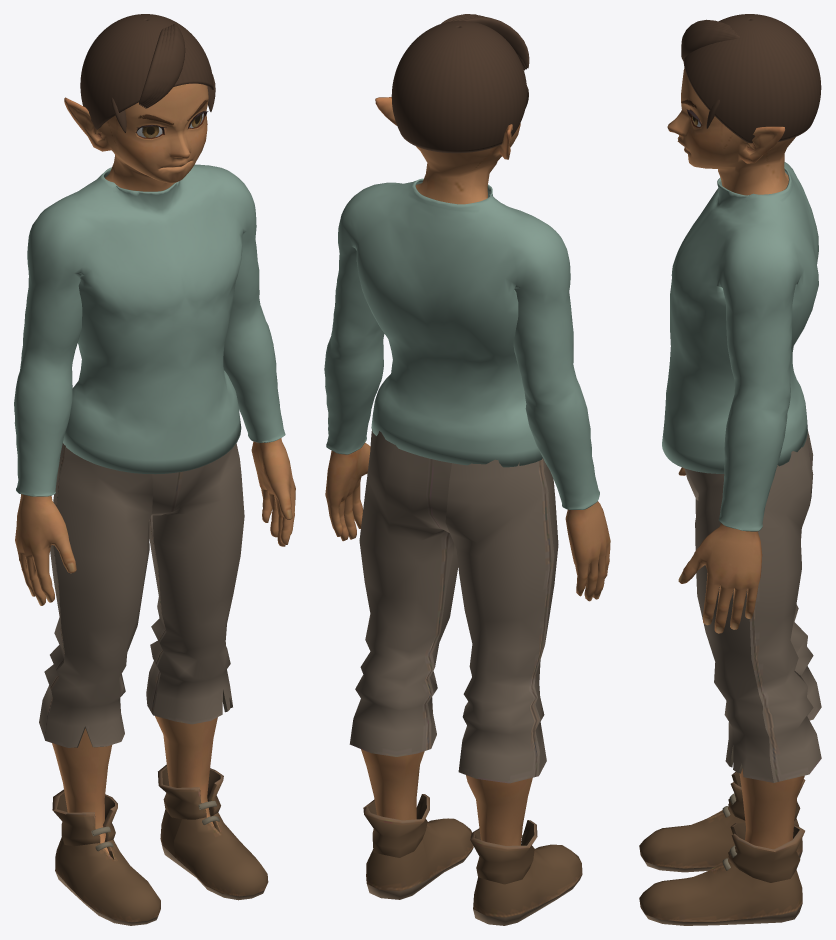
The model's file is boy-tan.glb.
3 views of the same model, side by side, from view 1: azimuth 30°, elevation 25°; view 2: azimuth 150°, elevation 25°; view 3: azimuth 270°, elevation 25° (orthographic).
Parts seen in each view (by area): view 1: boy • Plain shirt • neutral sage, boy • Pant_043__Mt_Lower_043, boy • continuous skin, Hair • detailed boy; view 2: boy • Pant_043__Mt_Lower_043, boy • Plain shirt • neutral sage, boy • continuous skin, Hair • detailed boy; view 3: boy • Plain shirt • neutral sage, boy • Pant_043__Mt_Lower_043, boy • continuous skin, Hair • detailed boy.
Boxes of the visible parts, box(x1,y1,x2,y2) form: boy • Plain shirt • neutral sage: box(14, 164, 285, 496); boy • Pant_043__Mt_Lower_043: box(39, 443, 268, 925); boy • continuous skin: box(15, 83, 295, 854); Hair • detailed boy: box(80, 14, 215, 132); boy • Pant_043__Mt_Lower_043: box(349, 429, 582, 925); boy • Plain shirt • neutral sage: box(324, 178, 599, 509); boy • continuous skin: box(325, 97, 610, 845); Hair • detailed boy: box(391, 14, 529, 153); boy • Plain shirt • neutral sage: box(662, 162, 818, 531); boy • Pant_043__Mt_Lower_043: box(639, 431, 821, 925); boy • continuous skin: box(667, 68, 804, 849); Hair • detailed boy: box(681, 14, 821, 143).
Size of the model in its own units: 0.5778 by 1.76 by 0.3363.
11 materials, 10 textured.
